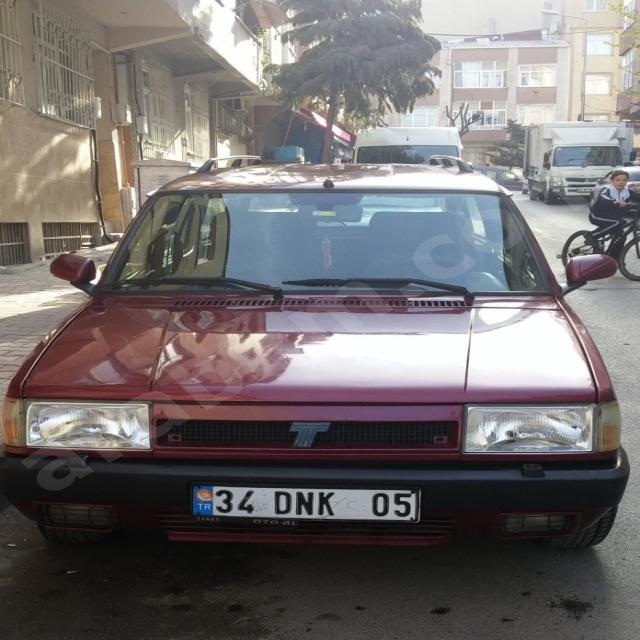license_plate: (190, 484, 421, 523)
